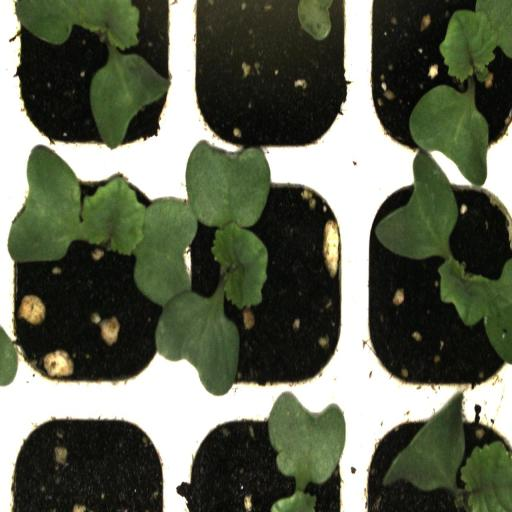Folha: (383, 399, 512, 512), (439, 0, 512, 82)
Germinacao: (176, 164, 355, 402), (4, 157, 178, 399), (355, 165, 512, 397), (2, 0, 182, 162), (357, 1, 512, 171)
